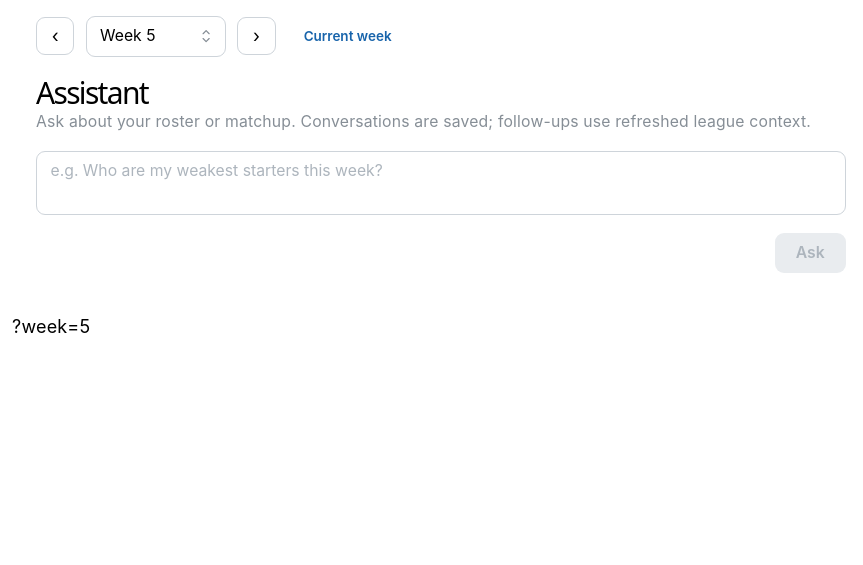
Test: starts a new conversation without a session id
In the text box named "question": (441, 183) [36,151,846,214], type "Old question"
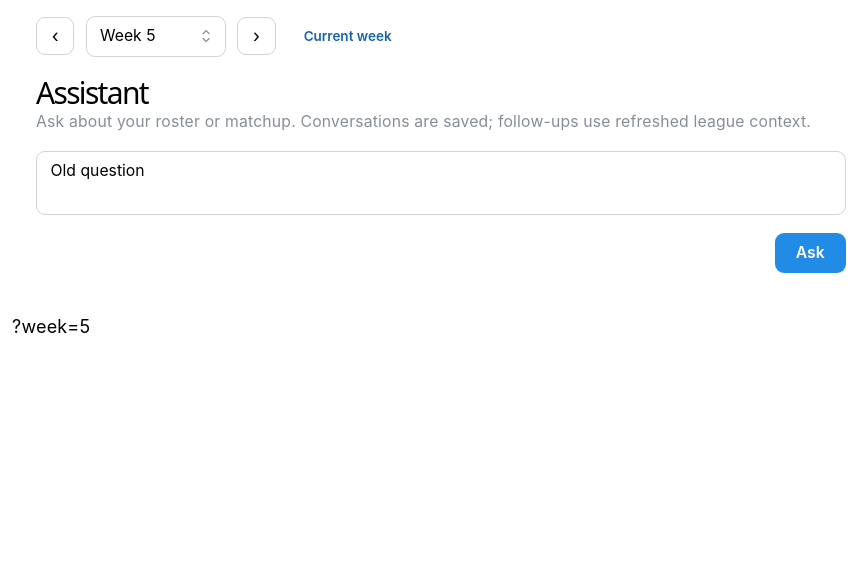
Click the button "Ask": click(810, 253) [774,232,846,273]
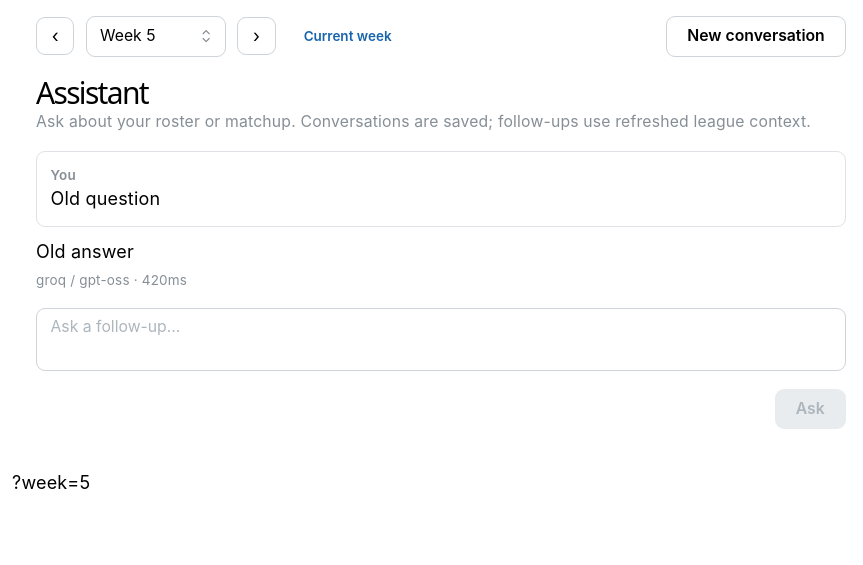
Result: the text "Old answer" is shown at [36,241,134,262]
Click the button "New conversation": click(756, 36) [666,16,846,56]
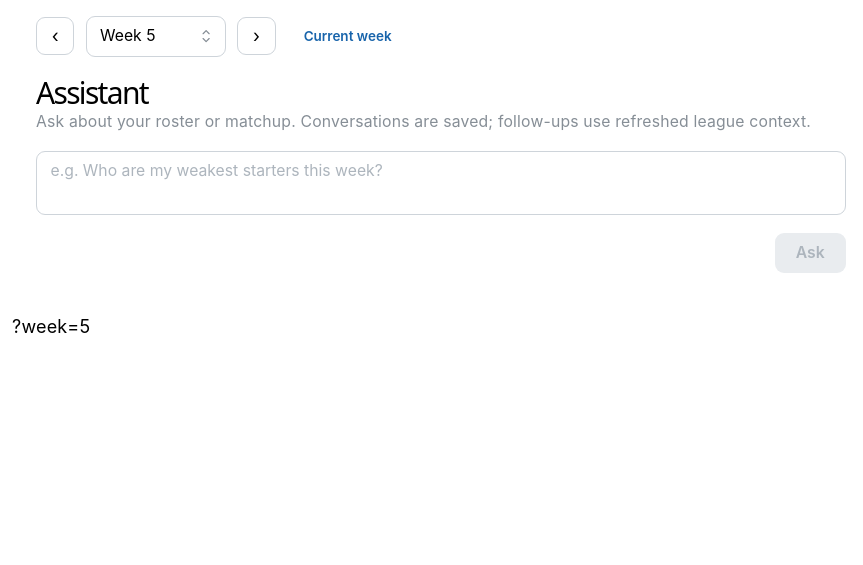
Expected: the text with test id "location" reads "?week=5", [12,316,90,337]
Result: the text "Old answer" is gone
In the text box named "question": (441, 183) [36,151,846,214], type "Fresh question"
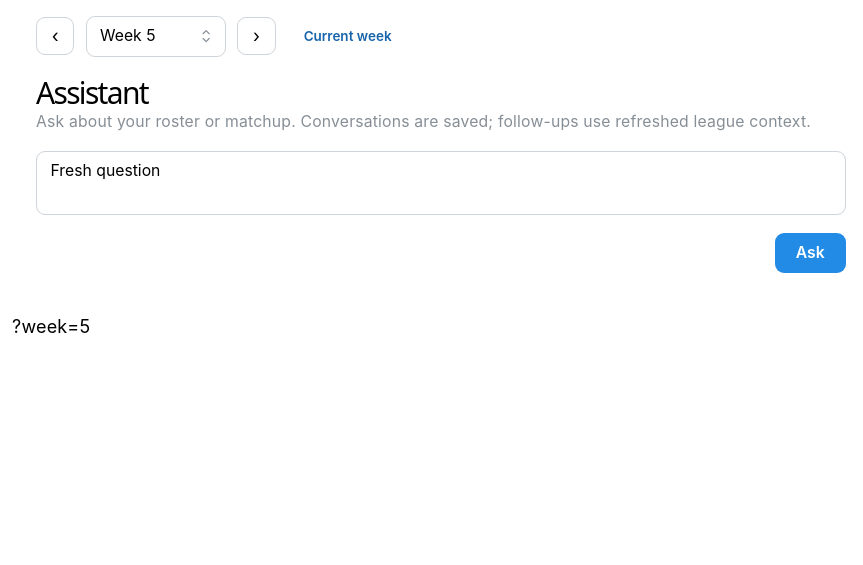
Click the button "Ask": click(810, 253) [774,232,846,273]
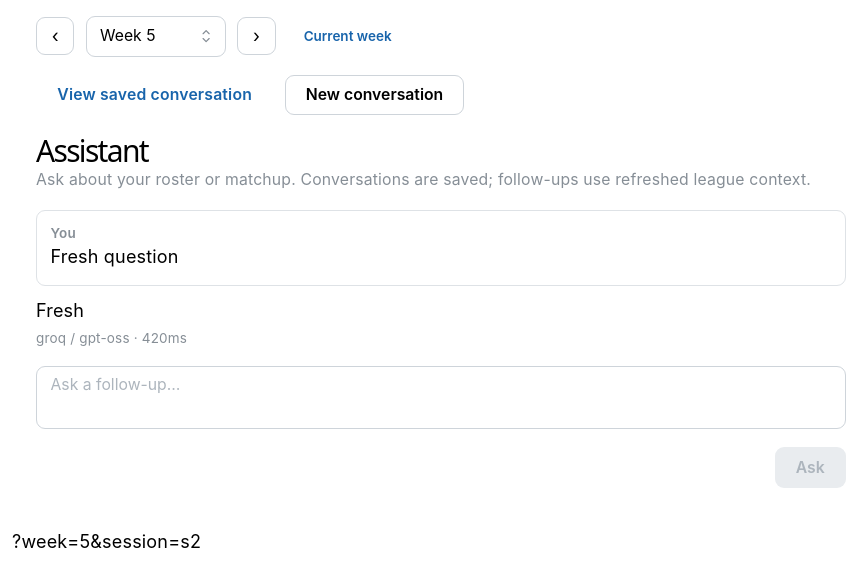
Result: the text "Fresh" is shown at [36,300,84,321]
